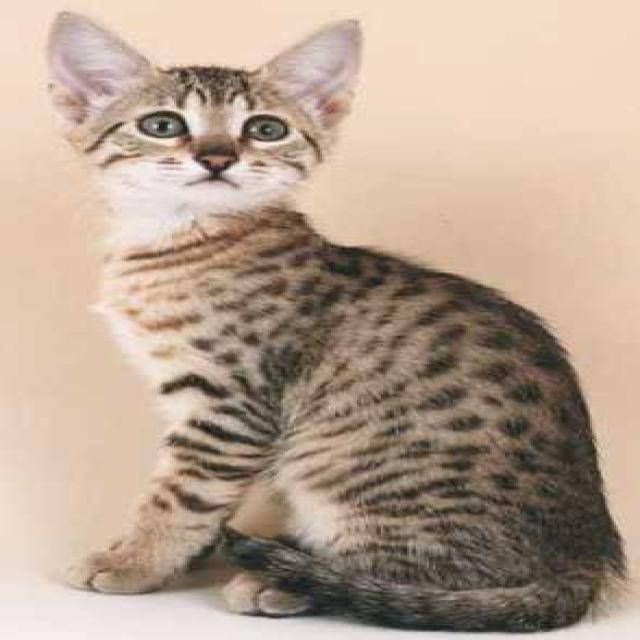Egyptian_Mau: (37, 6, 370, 219)
